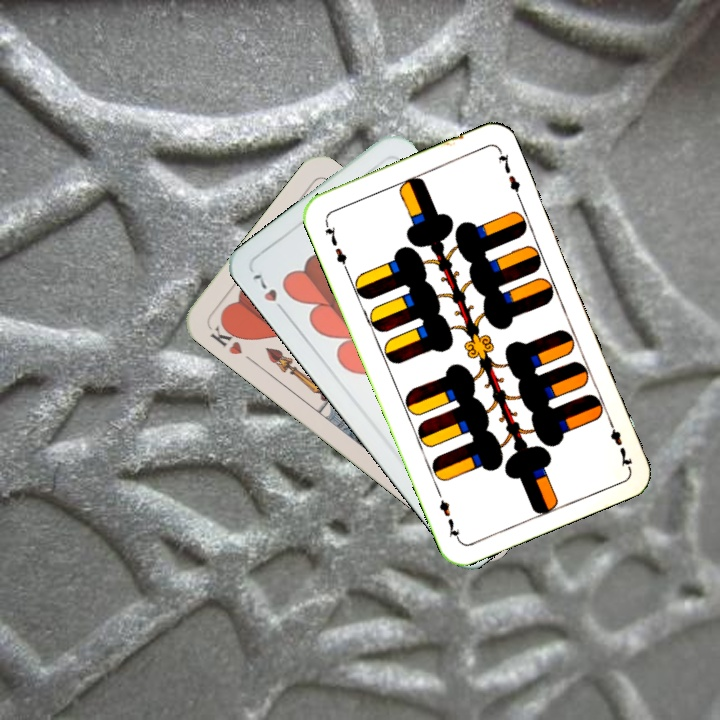E7: (604, 414, 635, 470), (321, 217, 351, 273)
H7: (248, 269, 290, 318)
HK: (205, 316, 248, 358)
